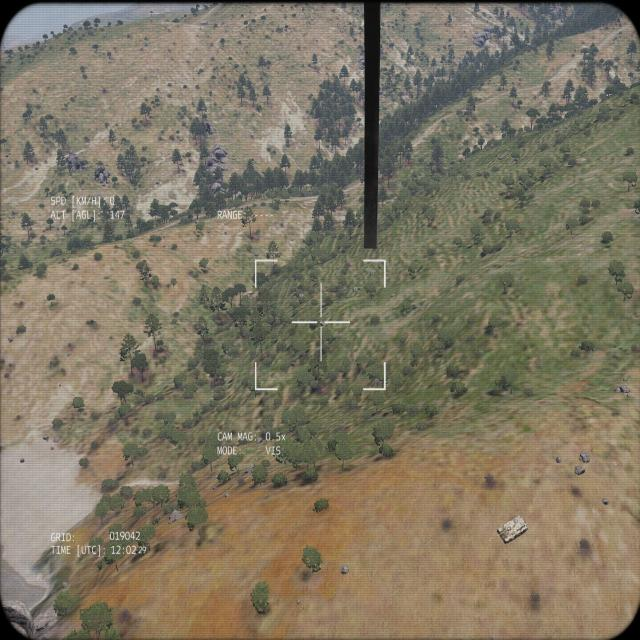tank: (491, 516, 528, 545)
